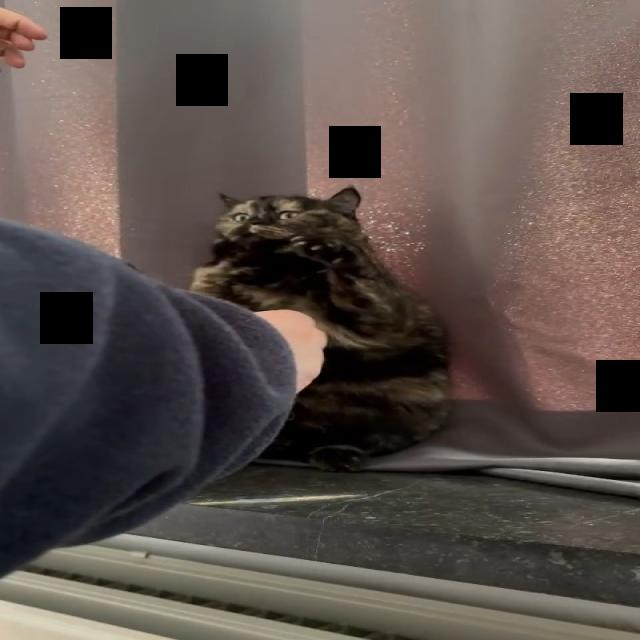authorized: (188, 185, 453, 472)
